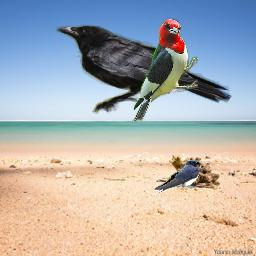Crow: (56, 24, 232, 114)
Swallow: (148, 160, 203, 198)
Woodpecker: (130, 18, 198, 122)
